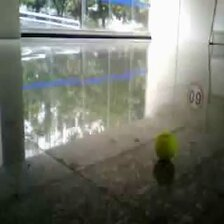tennis: (155, 133, 176, 160)
